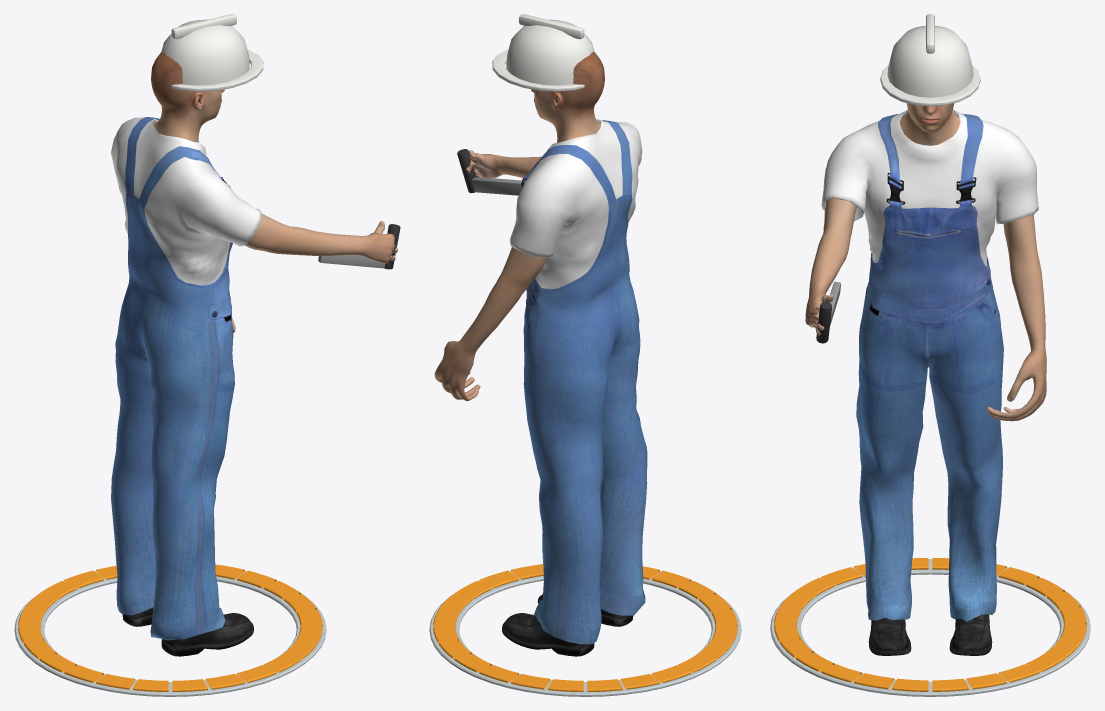
The model's file is MDO-EQP-003.glb.
3 renders of one model, left to right at view 1: azimuth 30°, elevation 25°; view 2: azimuth 150°, elevation 25°; view 3: azimuth 270°, elevation 25°, orthographic. The views are drawn at different scales.
Visible parts, largest first — view 1: MDO-EQP-003_pessoa_male_worksuit01, MDO-EQP-003_pessoa, MDO-EQP-003_capacete, MDO-EQP-003_anel_fundo, MDO-EQP-003_pessoa_shoes04, MDO-EQP-003_capacete_aba, MDO-EQP-003_capacete_friso, MDO-EQP-003_ferD_manivela; view 2: MDO-EQP-003_pessoa_male_worksuit01, MDO-EQP-003_pessoa, MDO-EQP-003_capacete, MDO-EQP-003_anel_fundo, MDO-EQP-003_pessoa_shoes04, MDO-EQP-003_capacete_aba, MDO-EQP-003_ferD_manivela, MDO-EQP-003_capacete_friso; view 3: MDO-EQP-003_pessoa_male_worksuit01, MDO-EQP-003_pessoa, MDO-EQP-003_capacete, MDO-EQP-003_anel_fundo, MDO-EQP-003_pessoa_shoes04, MDO-EQP-003_capacete_aba.
Part boxes in pixels (x1=…): MDO-EQP-003_pessoa_male_worksuit01: x1=111, y1=117, x2=261, y2=640; MDO-EQP-003_pessoa: x1=151, y1=52, x2=397, y2=332; MDO-EQP-003_capacete: x1=161, y1=19, x2=249, y2=85; MDO-EQP-003_anel_fundo: x1=14, y1=571, x2=326, y2=696; MDO-EQP-003_pessoa_shoes04: x1=122, y1=607, x2=253, y2=656; MDO-EQP-003_capacete_aba: x1=171, y1=49, x2=263, y2=91; MDO-EQP-003_capacete_friso: x1=171, y1=14, x2=236, y2=39; MDO-EQP-003_ferD_manivela: x1=318, y1=255, x2=385, y2=268; MDO-EQP-003_pessoa_male_worksuit01: x1=509, y1=119, x2=647, y2=644; MDO-EQP-003_pessoa: x1=434, y1=51, x2=604, y2=401; MDO-EQP-003_capacete: x1=506, y1=19, x2=594, y2=85; MDO-EQP-003_anel_fundo: x1=429, y1=571, x2=741, y2=696; MDO-EQP-003_pessoa_shoes04: x1=502, y1=594, x2=633, y2=656; MDO-EQP-003_capacete_aba: x1=492, y1=50, x2=584, y2=91; MDO-EQP-003_ferD_manivela: x1=471, y1=177, x2=522, y2=195; MDO-EQP-003_capacete_friso: x1=519, y1=14, x2=584, y2=39; MDO-EQP-003_pessoa_male_worksuit01: x1=821, y1=109, x2=1038, y2=621; MDO-EQP-003_pessoa: x1=805, y1=103, x2=1046, y2=421; MDO-EQP-003_capacete: x1=887, y1=26, x2=973, y2=97; MDO-EQP-003_anel_fundo: x1=770, y1=559, x2=1090, y2=696; MDO-EQP-003_pessoa_shoes04: x1=868, y1=614, x2=992, y2=655; MDO-EQP-003_capacete_aba: x1=880, y1=65, x2=980, y2=106.
Size of the model in its own units: 0.9744 by 1.79 by 0.84.
Materials: 10 (5 with a texture image).
